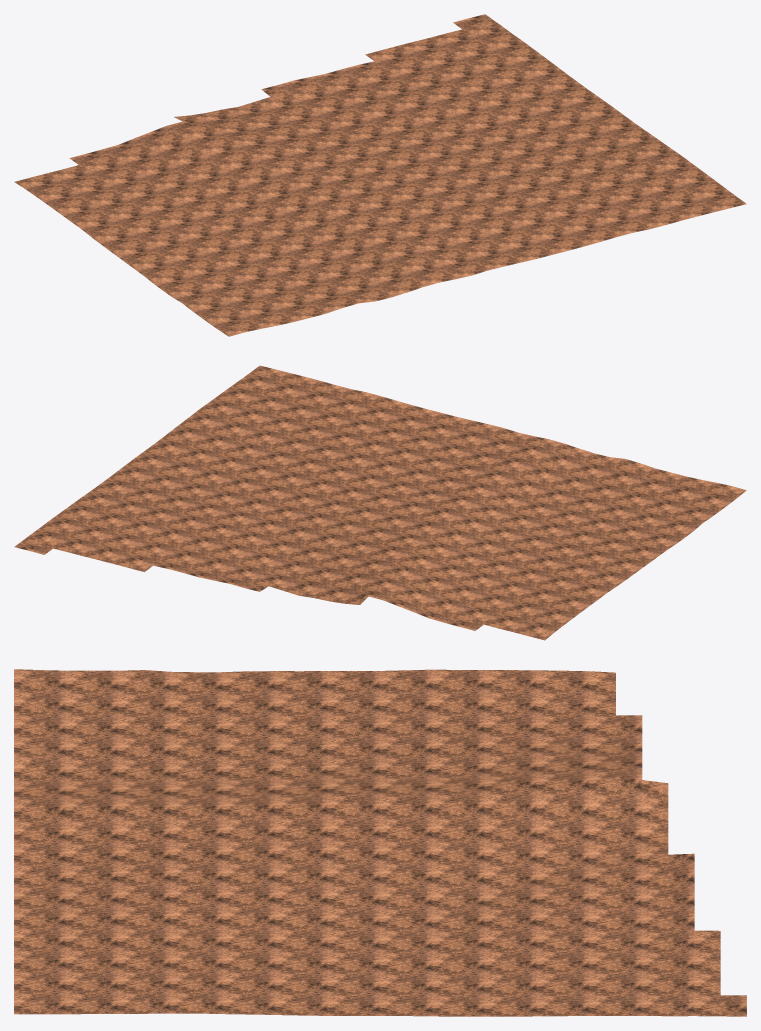
The model's file is terrain_10_06.dae.
The picture shows the model from 3 angles, top to bottom: view 1: azimuth 30°, elevation 25°; view 2: azimuth 150°, elevation 25°; view 3: azimuth 270°, elevation 25°; orthographic projection. The views are drawn at different scales.
Visible parts, largest first — view 1: terrain_10_06-node; view 2: terrain_10_06-node; view 3: terrain_10_06-node.
Boxes of the visible parts, x1,y1,x2,y2 form: terrain_10_06-node: (14,14,746,336); terrain_10_06-node: (14,365,746,640); terrain_10_06-node: (14,669,746,1016).
Bounding box in the file's own units: 128 × 112 × 2.48.
Materials: 1 (1 with a texture image).
